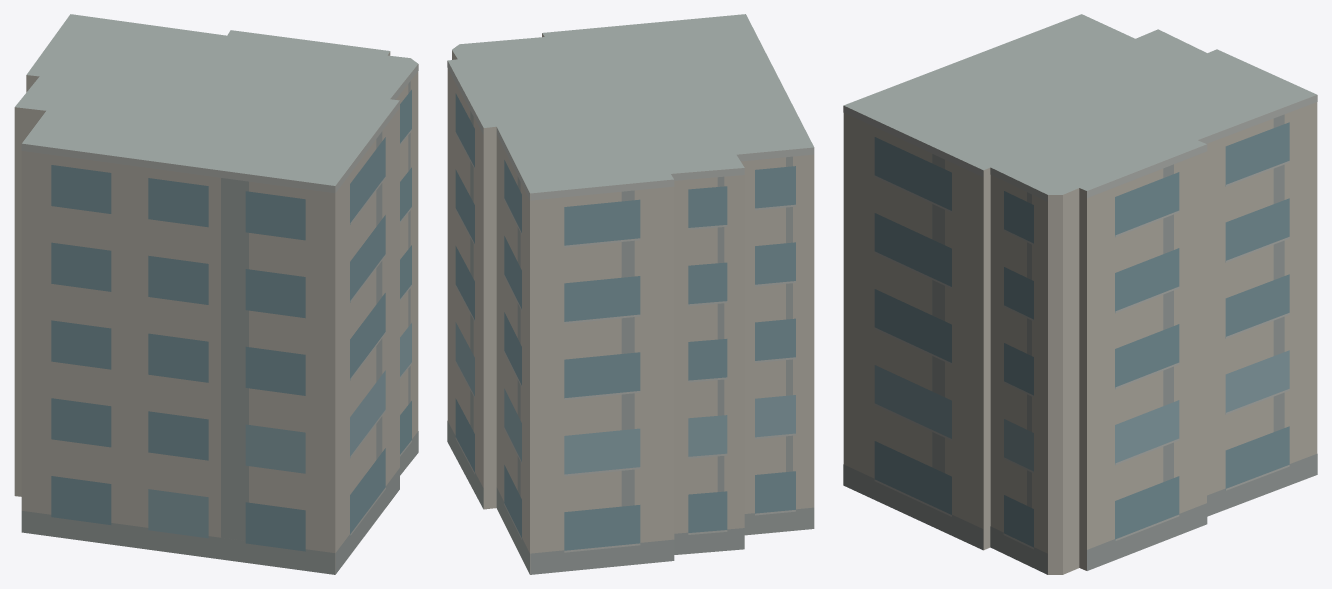
Rendered from survey-upis-32630082.glb.
3 views of the same model, side by side, from view 1: azimuth 30°, elevation 25°; view 2: azimuth 150°, elevation 25°; view 3: azimuth 270°, elevation 25° (orthographic). The views are drawn at different scales.
Parts seen in each view (by area): view 1: survey-upis-32630082.tmp; view 2: survey-upis-32630082.tmp; view 3: survey-upis-32630082.tmp.
Boxes of the visible parts, x1,y1,x2,y2 form: survey-upis-32630082.tmp: [14, 14, 418, 574]; survey-upis-32630082.tmp: [447, 14, 814, 574]; survey-upis-32630082.tmp: [843, 14, 1317, 574].
Size of the model in its own units: 13.28 by 13 by 14.7.
